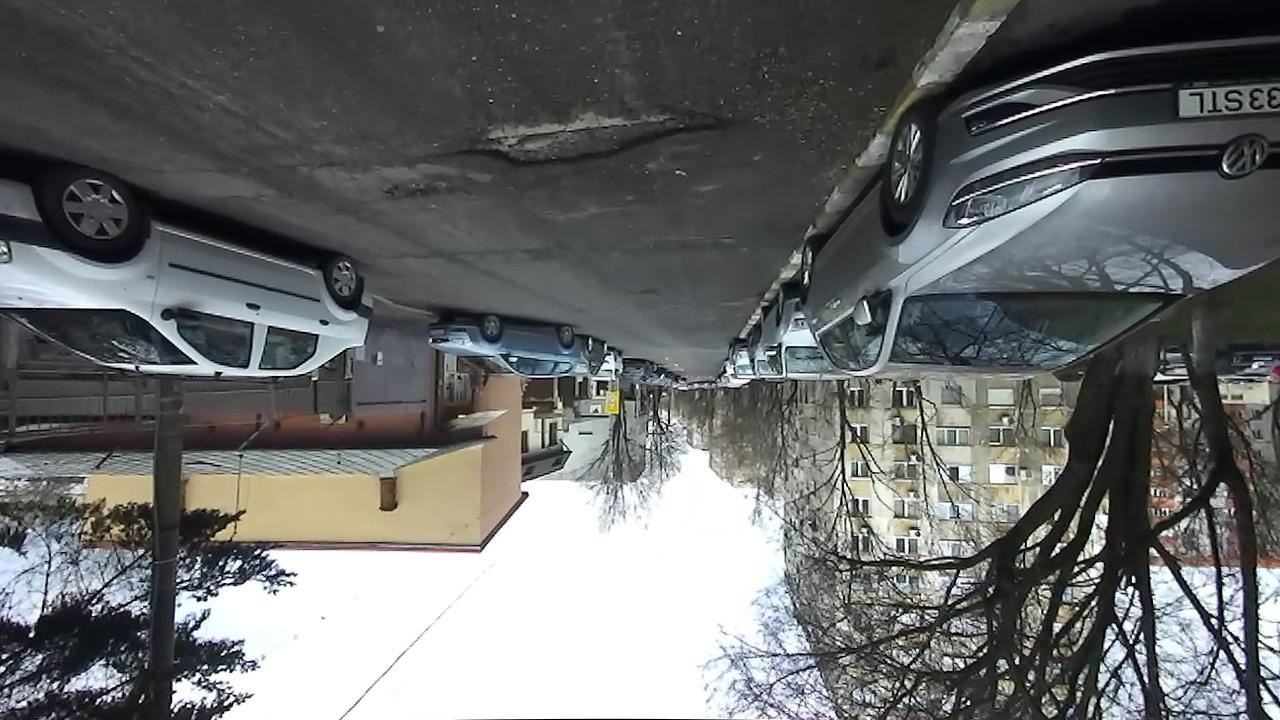pothole: (445, 106, 737, 174), (372, 175, 465, 207), (688, 232, 737, 245)
